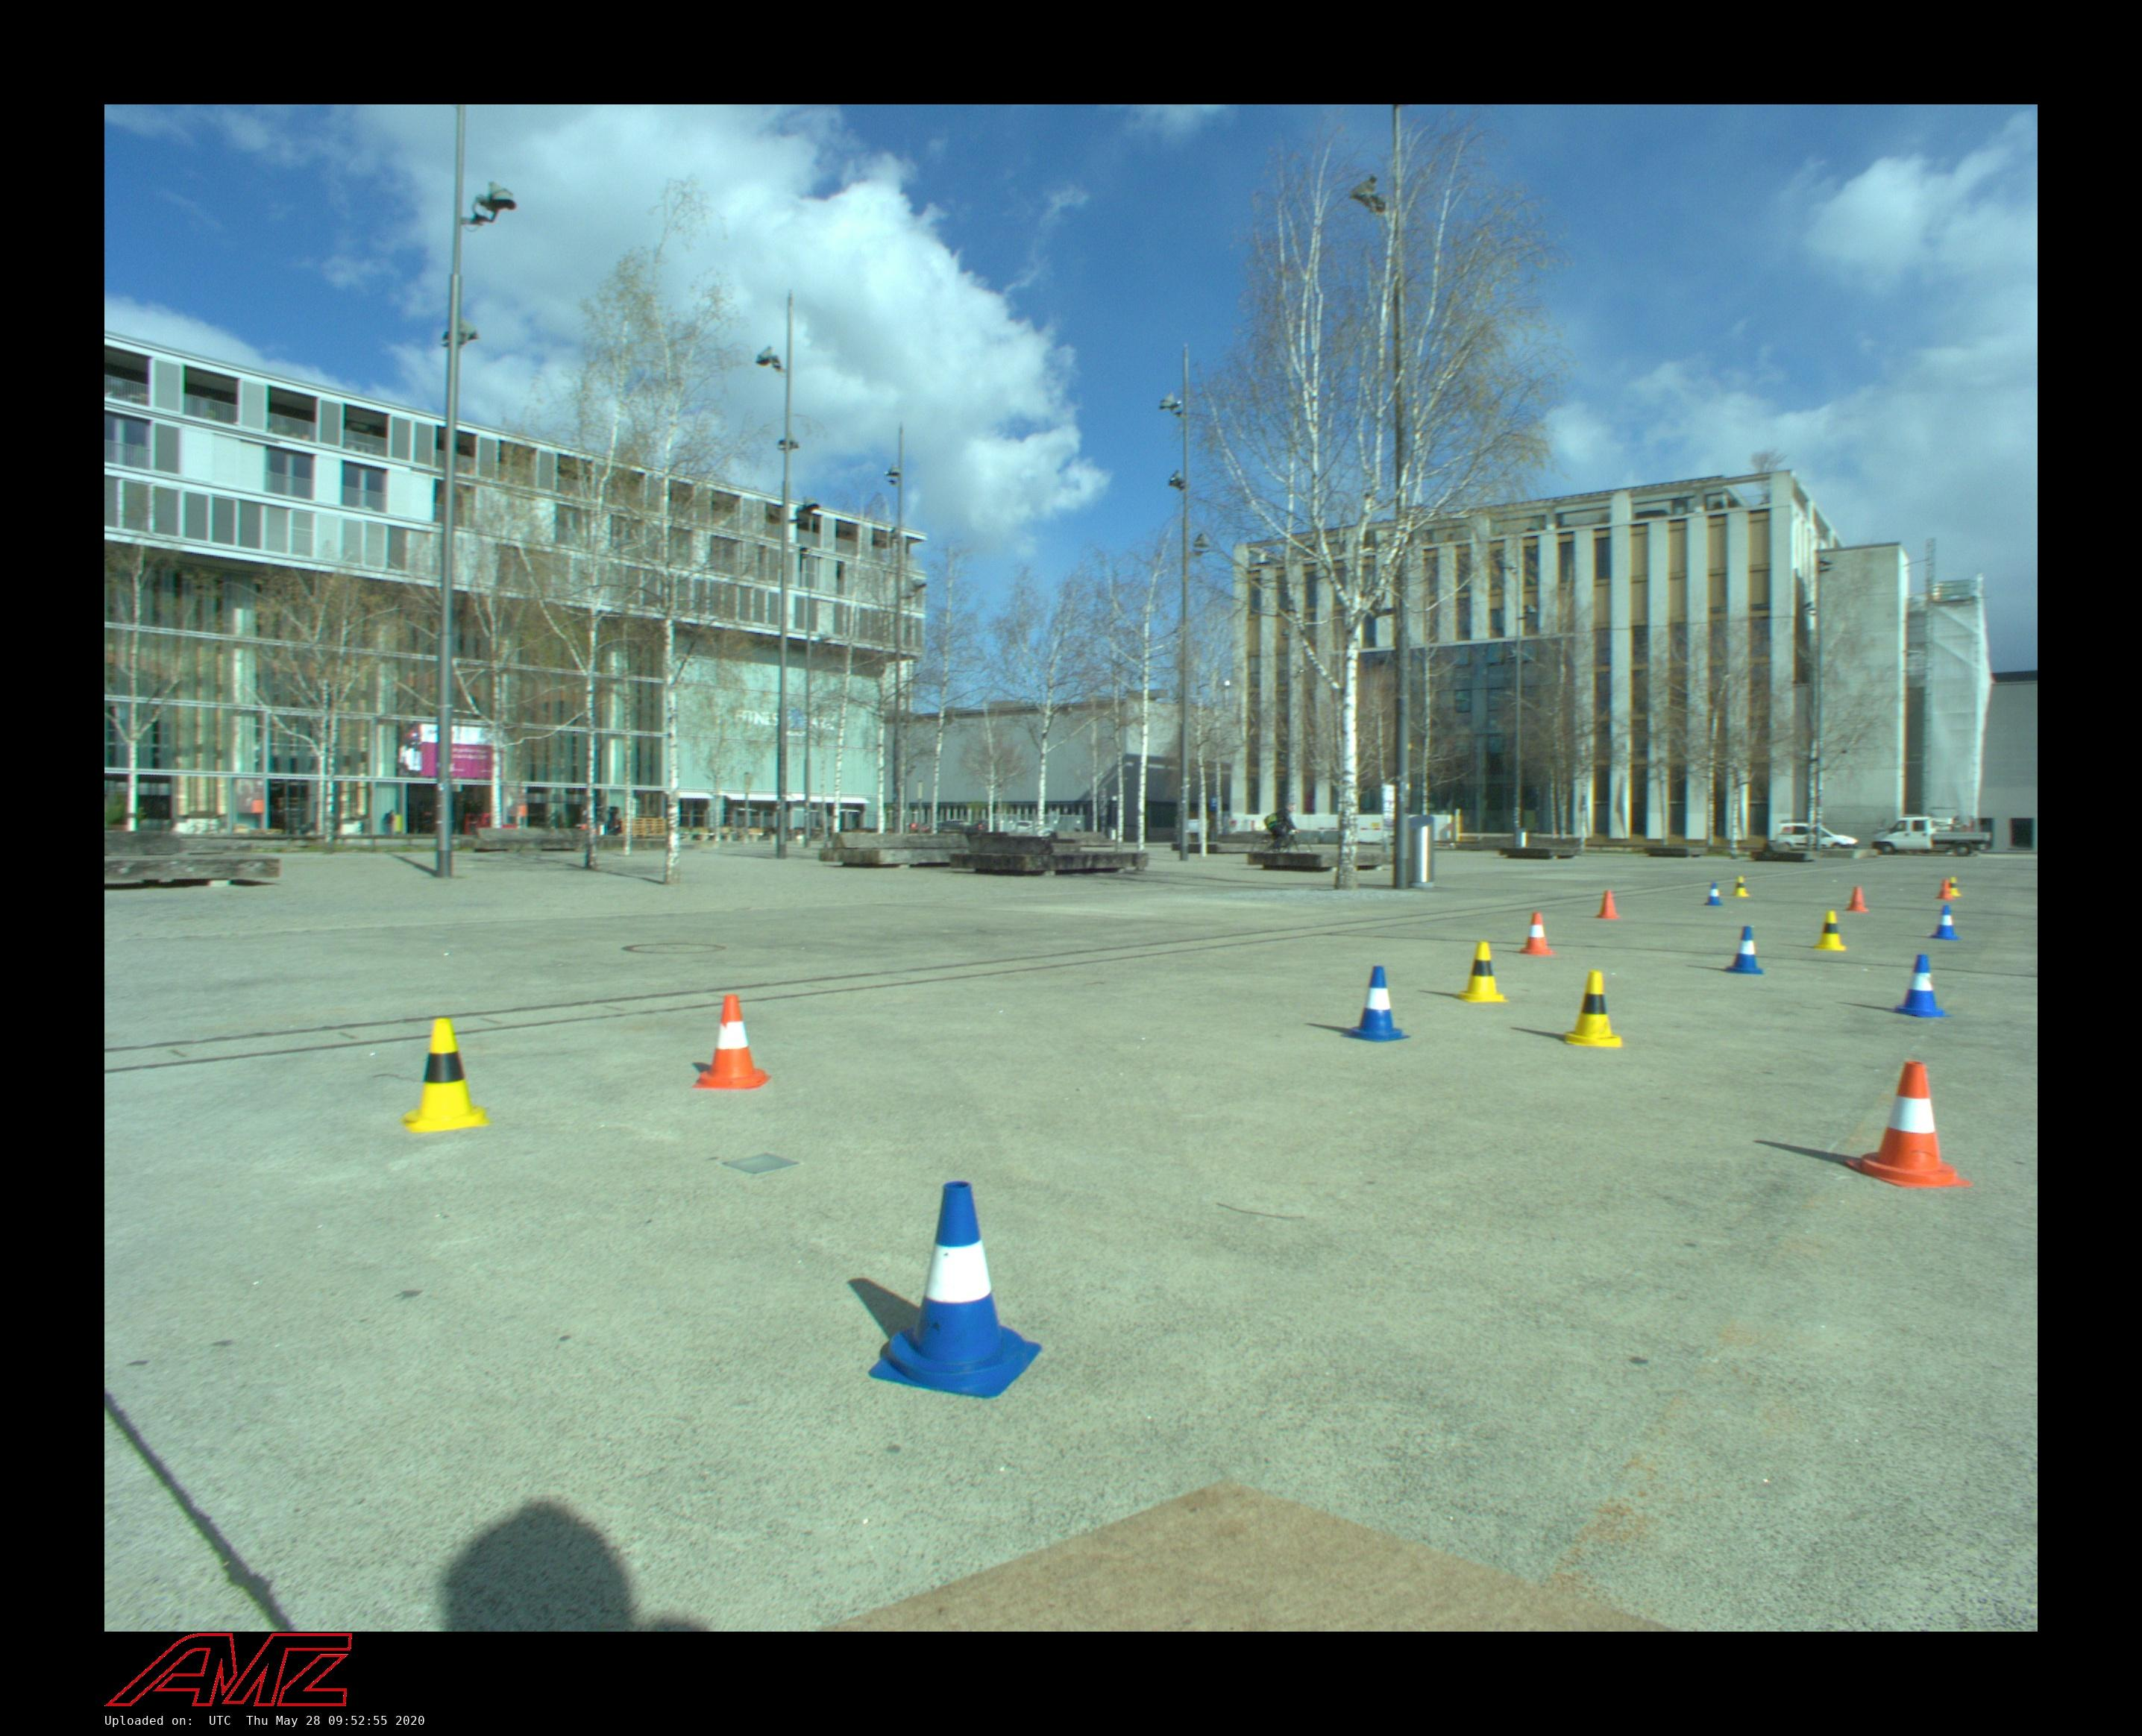blue_cone: (869, 1180, 1042, 1397), (1340, 966, 1410, 1042), (1889, 955, 1952, 1018), (1724, 926, 1764, 975), (1812, 911, 1847, 951), (1930, 905, 1959, 940), (1704, 882, 1723, 906)
orange_cone: (1845, 1060, 1970, 1189), (692, 995, 772, 1089), (1518, 911, 1555, 955), (1595, 890, 1620, 919), (1847, 886, 1869, 912), (1936, 879, 1955, 900)
yellow_cone: (401, 1018, 489, 1133), (1562, 970, 1623, 1046), (1454, 942, 1510, 1003), (1731, 875, 1749, 897), (1947, 877, 1961, 896)
